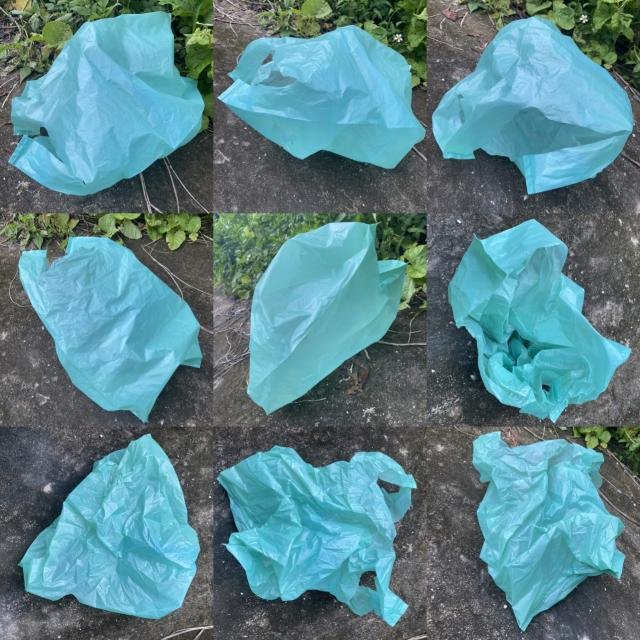Single-layer Plastic: (449, 219, 630, 421), (9, 11, 204, 195), (218, 446, 416, 626), (432, 18, 634, 194), (19, 434, 200, 619), (20, 238, 201, 421), (248, 222, 406, 414), (472, 432, 625, 630), (219, 26, 425, 169)
